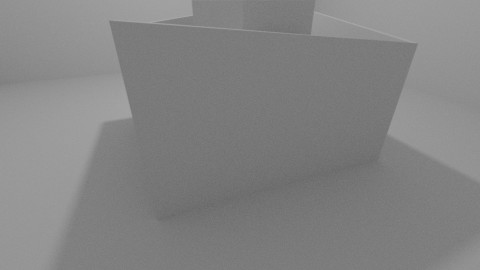cheminee: (192, 1, 316, 180)
eaf: (129, 26, 412, 159)
